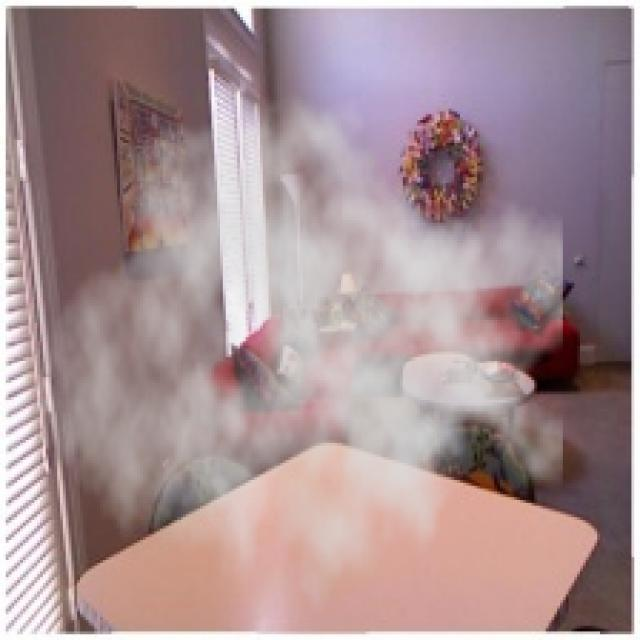Smoke: (46, 74, 566, 637)
